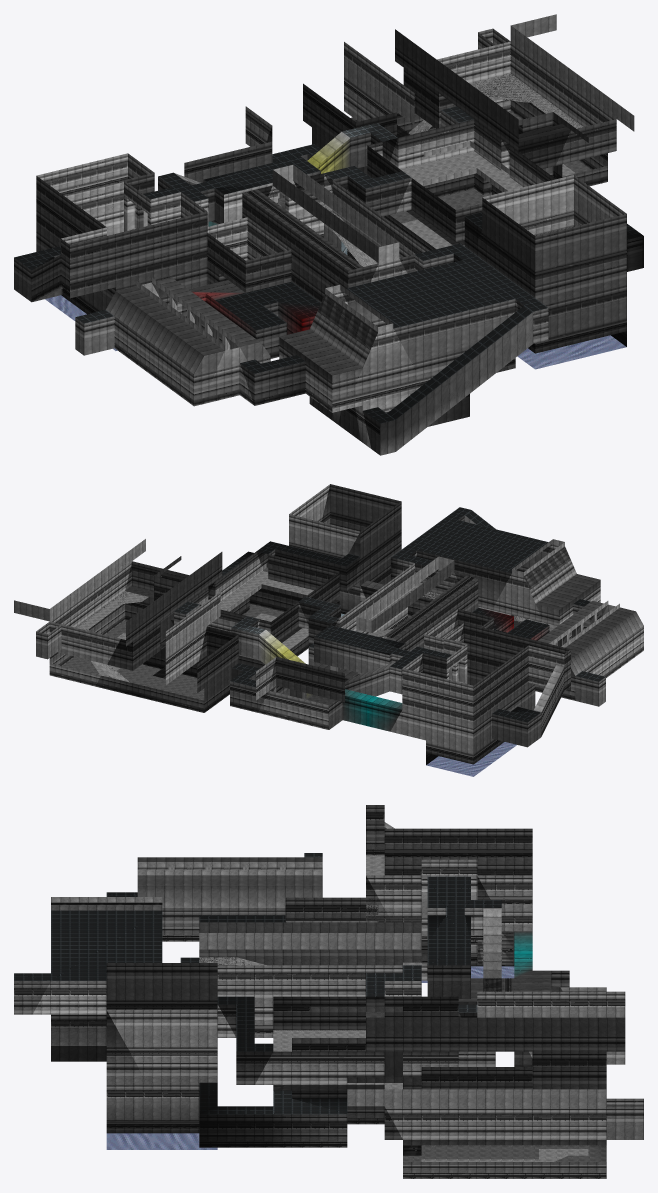
Rendered from ComplexGE.glb.
The picture shows the model from 3 angles, top to bottom: view 1: azimuth 30°, elevation 25°; view 2: azimuth 150°, elevation 25°; view 3: azimuth 270°, elevation 25°; orthographic projection. The views are drawn at different scales.
Parts seen in each view (by area): view 1: ComplexGE; view 2: ComplexGE; view 3: ComplexGE.
Part boxes in pixels (<box>): ComplexGE: <box>14,14,643,455</box>; ComplexGE: <box>14,484,643,776</box>; ComplexGE: <box>14,805,643,1178</box>.
Size of the model in its own units: 573 by 123 by 483.
Materials: 12 (11 with a texture image).
